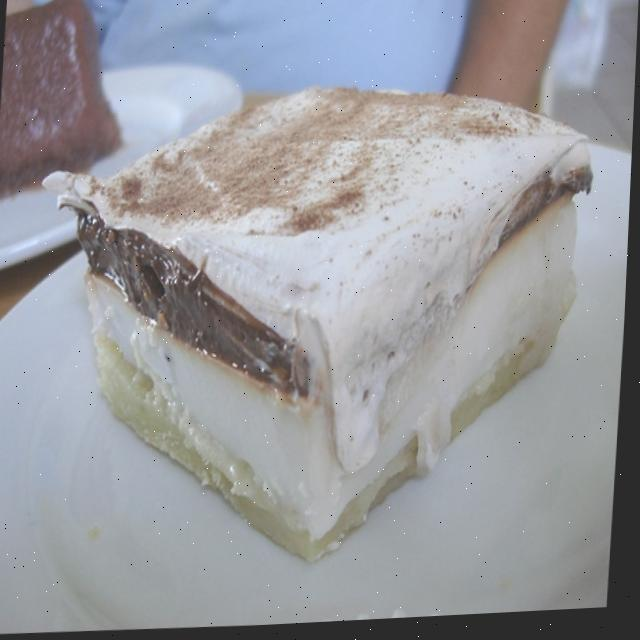蛋糕甜品: (24, 27, 602, 578)
